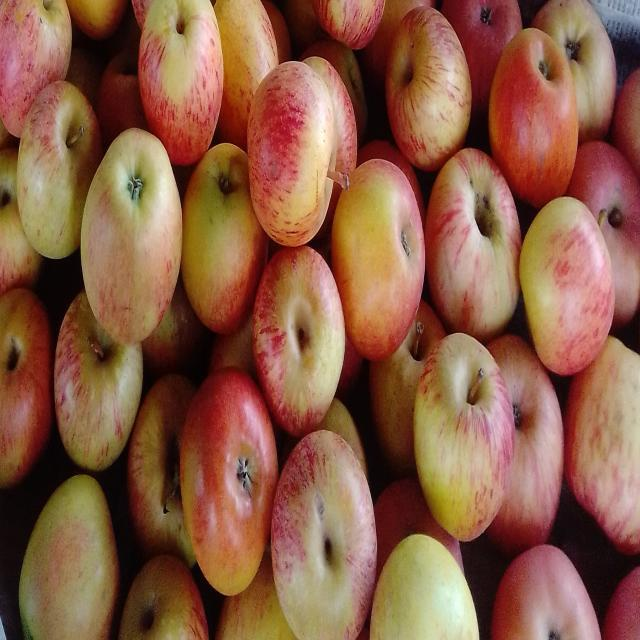Fresh Apple: (75, 128, 183, 347), (412, 328, 516, 542), (276, 431, 381, 640), (176, 370, 276, 582), (330, 158, 435, 358), (13, 461, 121, 640), (245, 58, 343, 245), (428, 147, 525, 325), (484, 20, 584, 192), (255, 244, 347, 428), (53, 292, 147, 470), (380, 3, 480, 165), (522, 195, 613, 363), (568, 343, 640, 550), (18, 82, 100, 260), (140, 0, 233, 151), (370, 535, 488, 640), (494, 548, 606, 640), (0, 0, 83, 106)
